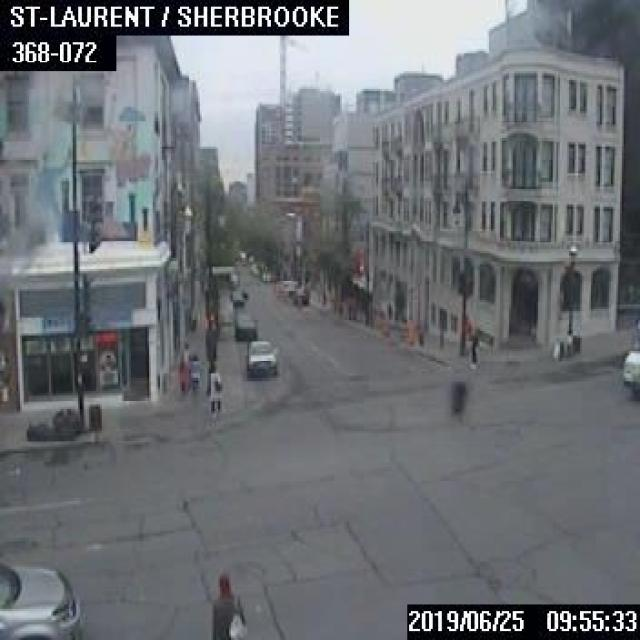construction: (406, 318, 414, 344)
pedestrian: (205, 571, 248, 638), (205, 366, 220, 411), (449, 376, 466, 414), (175, 348, 188, 392), (188, 351, 202, 391), (465, 324, 478, 366)
vehicle: (0, 564, 76, 637), (244, 336, 275, 376), (621, 320, 638, 391), (233, 310, 256, 338), (290, 285, 307, 302), (231, 289, 243, 305)
